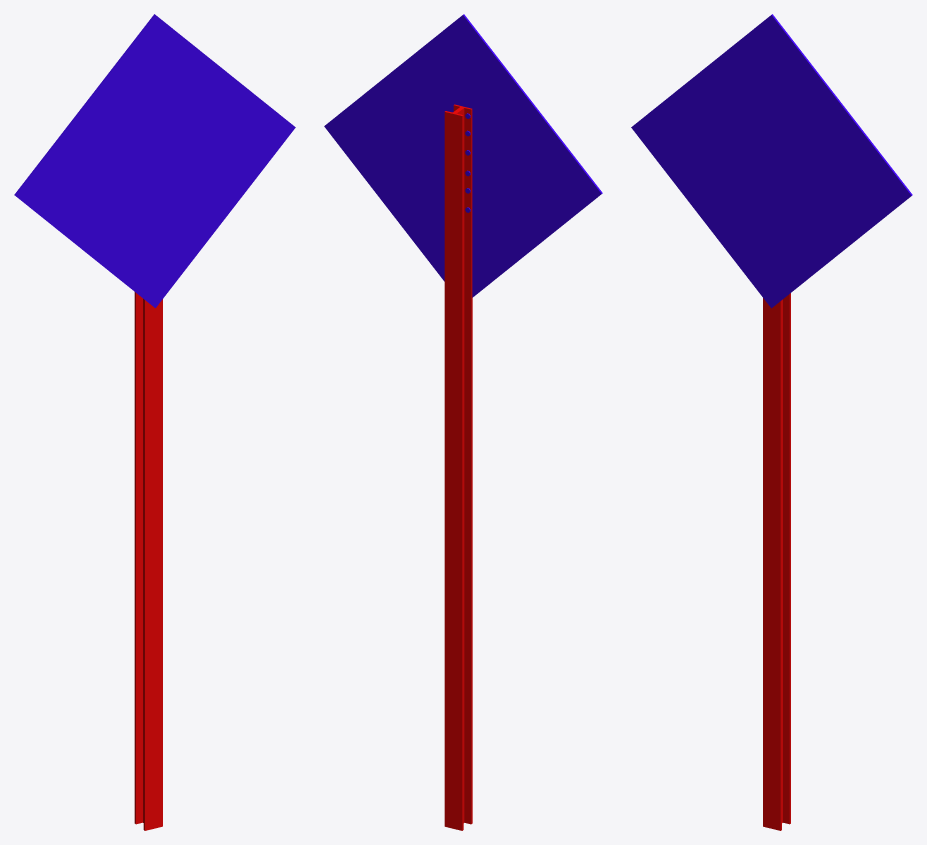
File: TurnAheadSign.fbx
The picture shows the model from 3 angles, left to right: view 1: azimuth 30°, elevation 25°; view 2: azimuth 150°, elevation 25°; view 3: azimuth 330°, elevation 25°; orthographic projection.
Parts seen in each view (by area): view 1: Cube, Cube_2; view 2: Cube, Cube_2; view 3: Cube, Cube_2.
Boxes of the visible parts, <box> form: Cube: <box>14,14,295,307</box>; Cube_2: <box>134,292,162,830</box>; Cube: <box>324,14,602,297</box>; Cube_2: <box>444,104,472,830</box>; Cube: <box>631,14,912,308</box>; Cube_2: <box>763,293,790,830</box>.
Size of the model in its own units: 99.71 by 277 by 6.98.
